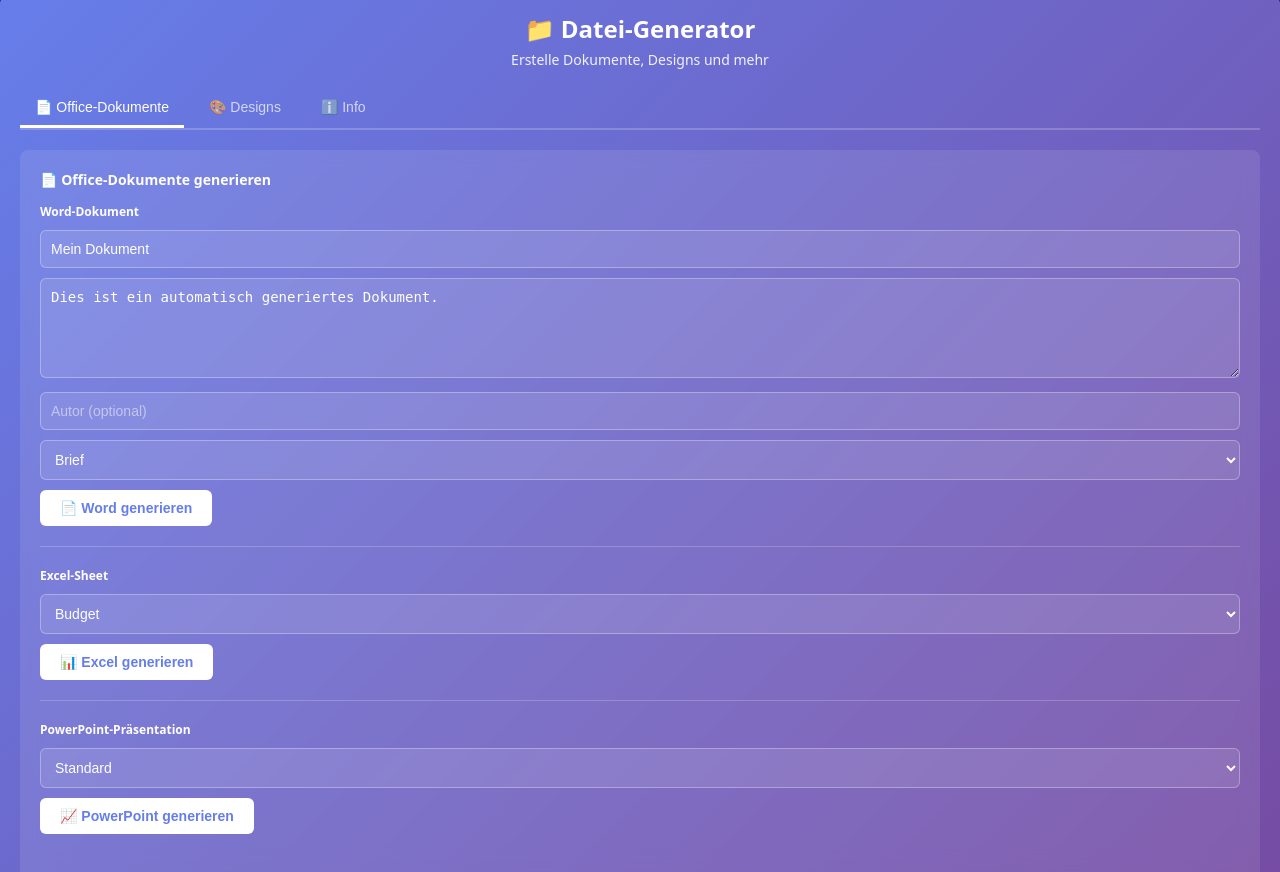
GeneratorUI › generates word document
The width and height of the screenshot is (1280, 872).
Click the button "📄 Word generieren" at [126, 508], box top-left (40, 490), bottom-right (212, 526)
(page scrolled)
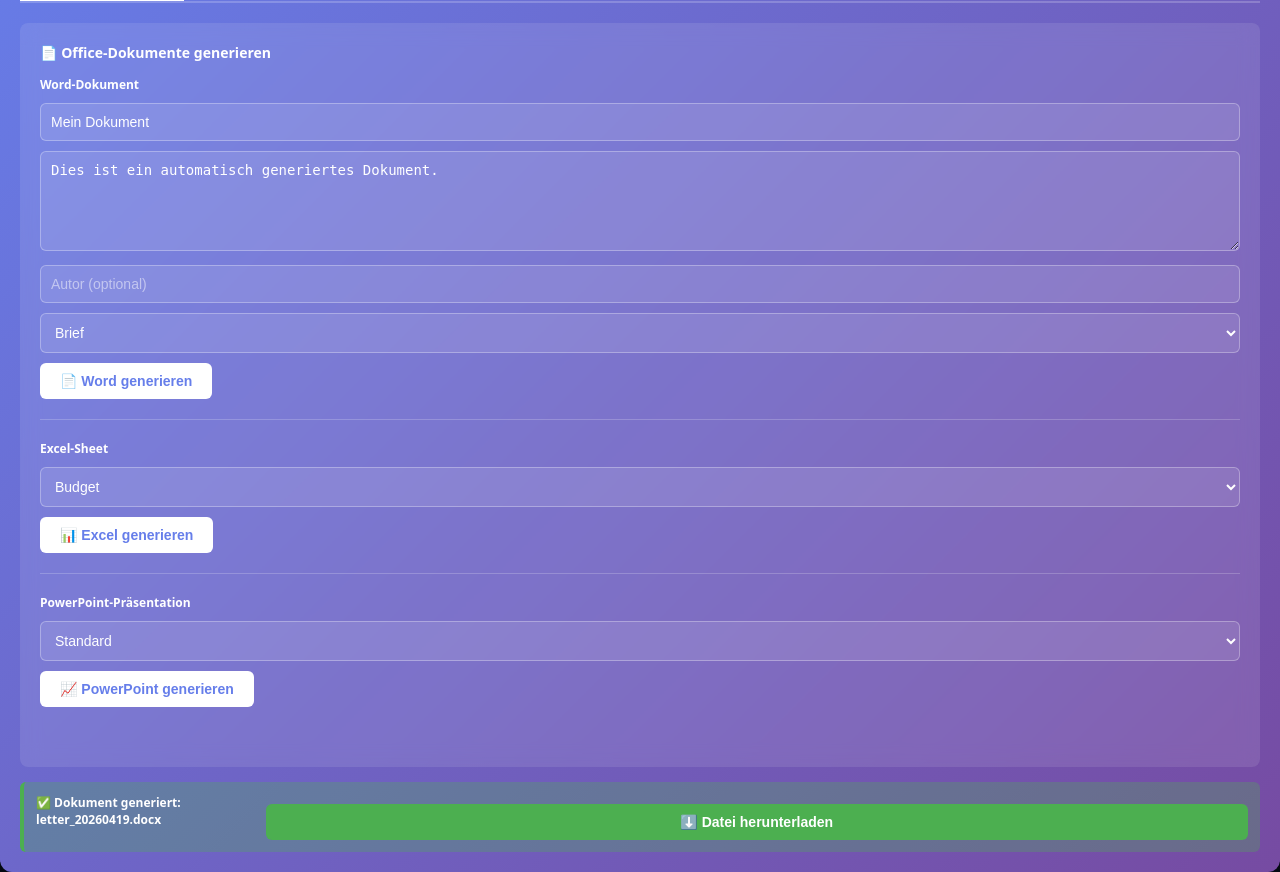
Result: the text "✅ Dokument generiert: letter_20260419.docx" is shown at top-left (36, 794), bottom-right (181, 828)
